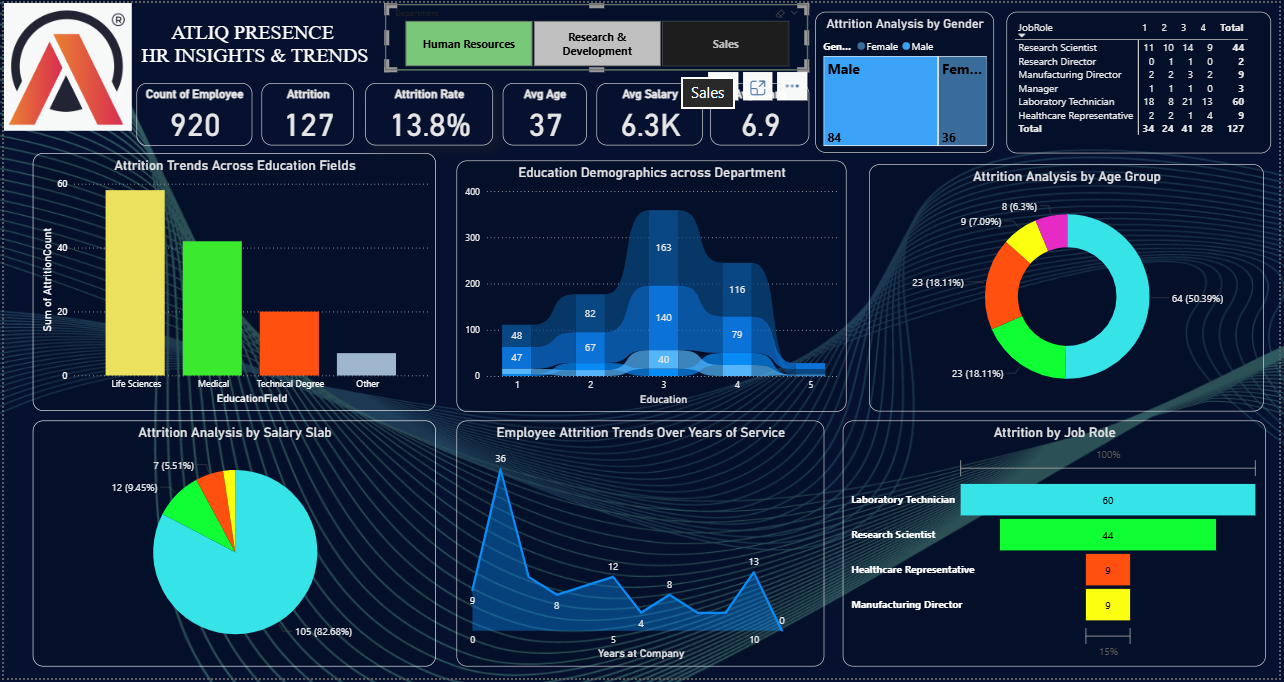

The page's visual inventory and layout, read from the dashboard file:
{"tool":"powerbi","page":{"name":"Page 2","canvas":[1700,900],"ordinal":0},"visuals":[{"type":"clusteredColumnChart","title":"Attrition Trends Across Education Fields","fields":{"Category":["HR_Analytics.EducationField"],"Y":["Sum(HR_Analytics.AttritionCount)"]},"box":[37.7,200,537.7,344.3],"z":0},{"type":"card","title":"Count of Employee","fields":{"Values":["CountNonNull(HR_Analytics.EmpID)"]},"box":[177.1,107.1,154.1,83.6],"z":1000},{"type":"card","title":"Attrition","fields":{"Values":["Sum(HR_Analytics.AttritionCount)"]},"box":[344,107,123.3,83.3],"z":2000},{"type":"card","title":"Attrition Rate","fields":{"Values":["HR_Analytics.AttritionRate"]},"box":[482.3,107,170,83.3],"z":3000},{"type":"card","title":"Avg Age","fields":{"Values":["Avg(HR_Analytics.Age)"]},"box":[665.6,107,111.7,83.3],"z":4000},{"type":"card","title":"Avg Salary","fields":{"Values":["Avg(HR_Analytics.MonthlyIncome)"]},"box":[790.6,107,141.7,83.3],"z":5000},{"type":"card","title":"Avg Years","fields":{"Values":["Avg(HR_Analytics.YearsAtCompany)"]},"box":[942.3,107,131.7,83.3],"z":6000},{"type":"pivotTable","fields":{"Rows":["HR_Analytics.JobRole"],"Columns":["HR_Analytics.JobSatisfaction"],"Values":["Sum(HR_Analytics.AttritionCount)"]},"box":[1336.1,11.5,352.5,188.5],"z":7000},{"type":"treemap","title":"Attrition Analysis by Gender","fields":{"Values":["Sum(HR_Analytics.AttritionCount)"],"Details":["HR_Analytics.Gender"]},"box":[1081.8,11.8,238.2,188.2],"z":8000},{"type":"slicer","fields":{"Values":["HR_Analytics.Department"]},"box":[508.3,1.7,563.3,88.3],"z":9000},{"type":"textbox","box":[168.2,1.9,332.8,103.3],"z":10000},{"type":"donutChart","title":"Attrition Analysis by Age Group","fields":{"Category":["HR_Analytics.AgeGroup"],"Y":["Sum(HR_Analytics.AttritionCount)"]},"box":[1154.1,214.8,526.2,329.5],"z":11000},{"type":"ribbonChart","title":"Education Demographics across Department ","fields":{"Y":["CountNonNull(HR_Analytics.Department)"],"Category":["HR_Analytics.Education"],"Series":["HR_Analytics.EducationField"]},"box":[602.9,209.3,520,335],"z":12000},{"type":"pieChart","title":"Attrition Analysis by Salary Slab","fields":{"Category":["HR_Analytics.SalarySlab"],"Y":["Sum(HR_Analytics.AttritionCount)"]},"box":[37.7,557.4,537.7,327.9],"z":13000},{"type":"areaChart","title":"Employee Attrition Trends Over Years of Service","fields":{"Category":["HR_Analytics.YearsAtCompany"],"Y":["Sum(HR_Analytics.AttritionCount)"]},"box":[603.3,557.4,490.2,327.9],"z":14000},{"type":"funnel","title":"Attrition by Job Role","fields":{"Category":["HR_Analytics.JobRole"],"Y":["Sum(HR_Analytics.AttritionCount)"]},"box":[1118,557.4,563.9,327.9],"z":15000},{"type":"image","box":[0,0,170.5,170.5],"z":16000}]}

Visuals, with their boxes in screenshot pixels (x1, y1, x2, y2), scaled from the page's 1700x900 canvas onto the 1284x682 screenshot:
"Attrition Trends Across Education Fields" clusteredColumnChart: [28, 152, 435, 412]
"Count of Employee" card: [134, 81, 250, 145]
"Attrition" card: [260, 81, 353, 144]
"Attrition Rate" card: [364, 81, 493, 144]
"Avg Age" card: [503, 81, 587, 144]
"Avg Salary" card: [597, 81, 704, 144]
"Avg Years" card: [712, 81, 811, 144]
pivotTable - HR_Analytics.JobRole x HR_Analytics.JobSatisfaction: [1009, 9, 1275, 152]
"Attrition Analysis by Gender" treemap: [817, 9, 997, 152]
slicer - HR_Analytics.Department: [384, 1, 809, 68]
textbox: [127, 1, 378, 80]
"Attrition Analysis by Age Group" donutChart: [872, 163, 1269, 412]
"Education Demographics across Department " ribbonChart: [455, 159, 848, 412]
"Attrition Analysis by Salary Slab" pieChart: [28, 422, 435, 671]
"Employee Attrition Trends Over Years of Service" areaChart: [456, 422, 826, 671]
"Attrition by Job Role" funnel: [844, 422, 1270, 671]
image: [0, 0, 129, 129]
